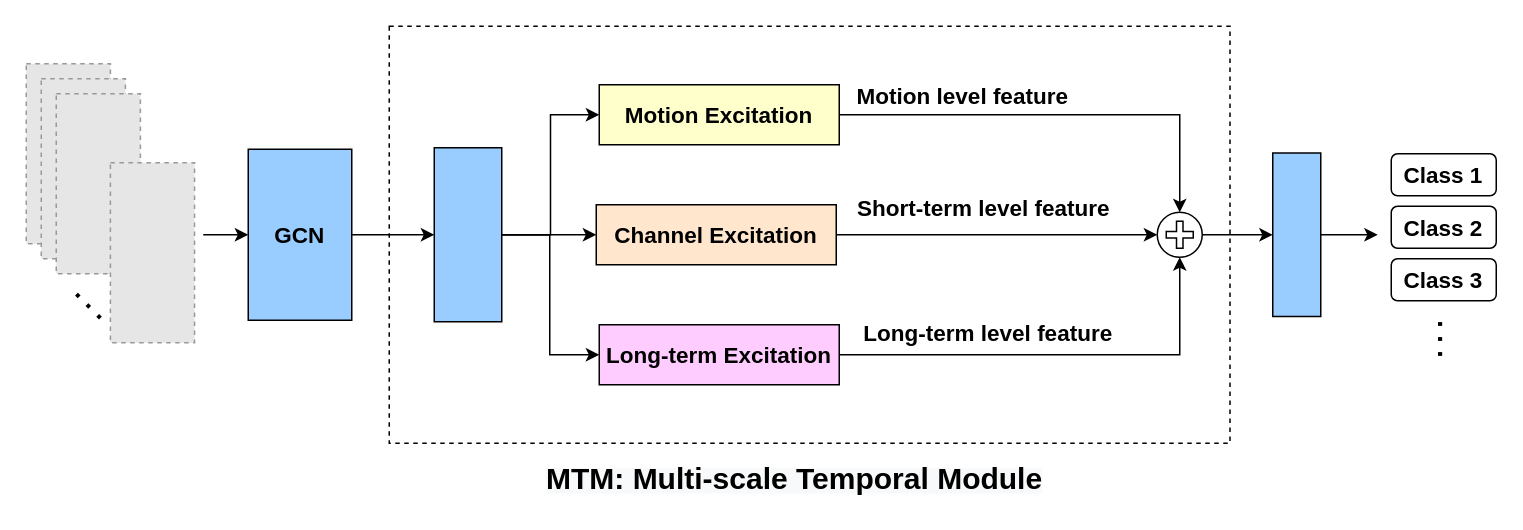
Some shapes in this 1523 by 530 pixel diagram are drawn without their labels. Grey dashed boxes stand in for pictures. Here are the shapes that lost their labels. From the top down, the centre of each, then its label:
At point 467,234: "TCN".
At point 1296,234: "FC".
